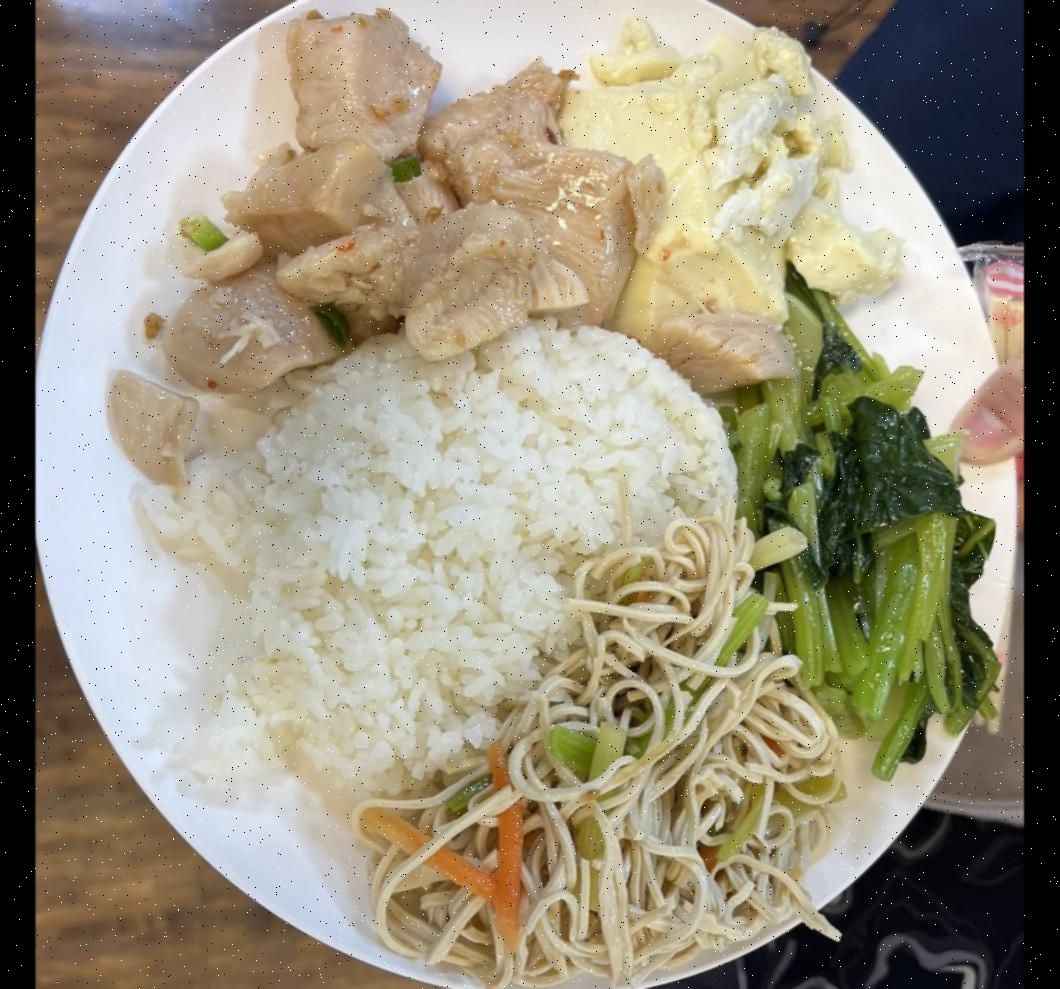plate: (35, 0, 1022, 989)
scallion chicken: (107, 10, 662, 474)
side dish: (368, 524, 842, 986), (554, 25, 920, 374), (733, 306, 996, 769)
white rice: (242, 316, 745, 822)
